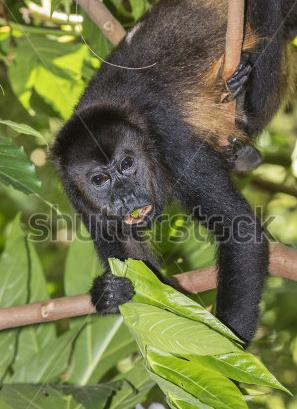monkey: (47, 0, 297, 347)
